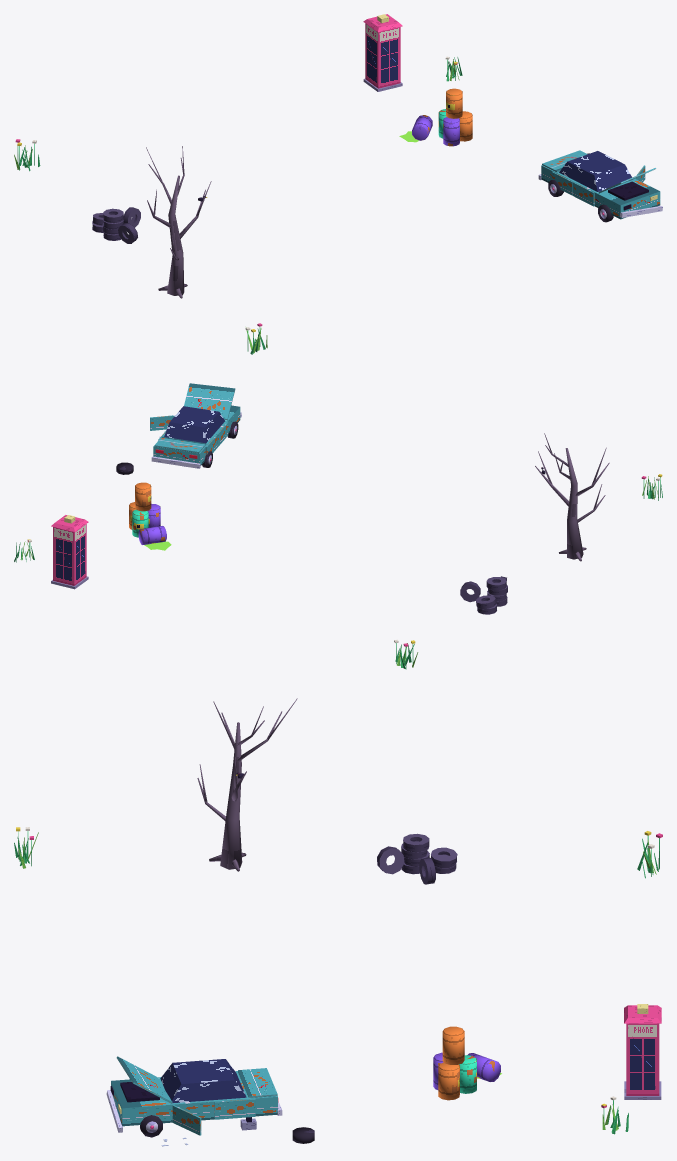
File: Broken Road Dressing.fbx
3 views of the same model, one above another, from view 1: azimuth 30°, elevation 25°; view 2: azimuth 150°, elevation 25°; view 3: azimuth 270°, elevation 25° (orthographic). The views are drawn at different scales.
Visible parts, largest first — view 1: Broken Road Dressing mesh; view 2: Broken Road Dressing mesh; view 3: Broken Road Dressing mesh.
Part boxes in pixels (x1,y1,x2,y2): Broken Road Dressing mesh: (14,14,662,354); Broken Road Dressing mesh: (14,383,662,669); Broken Road Dressing mesh: (14,698,662,1146).
Bounding box in the file's own units: 19.69 × 5.13 × 17.66.
33 materials, 33 textured.
